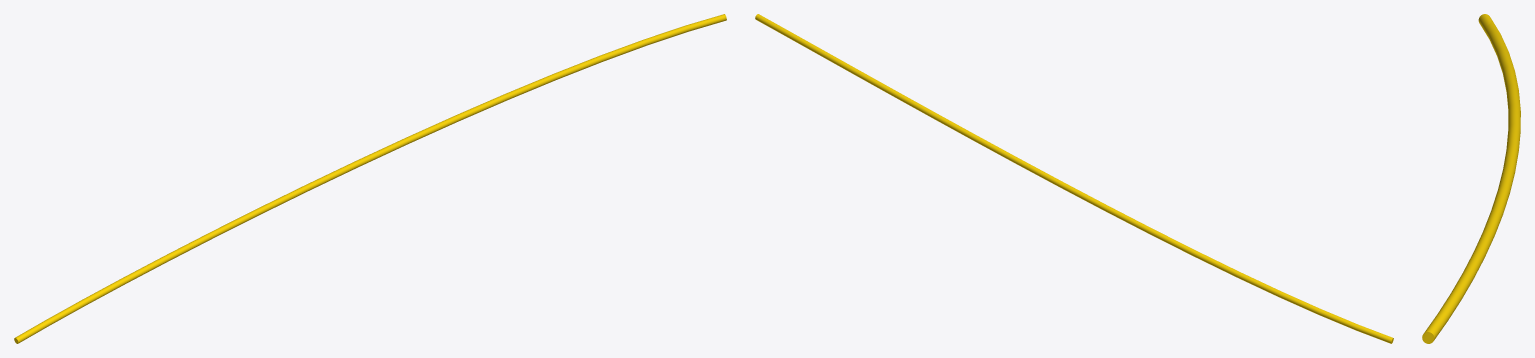
File: Event_421115418_track_173.fbx
3 views of the same model, side by side, from view 1: azimuth 30°, elevation 25°; view 2: azimuth 150°, elevation 25°; view 3: azimuth 270°, elevation 25° (orthographic). The views are drawn at different scales.
Visible parts, largest first — view 1: Model; view 2: Model; view 3: Model.
Part boxes in pixels (x1=…): Model: x1=14, y1=14, x2=726, y2=343; Model: x1=755, y1=14, x2=1393, y2=343; Model: x1=1422, y1=14, x2=1520, y2=343.
Size of the model in its own units: 4.71 by 1.11 by 0.3148.
